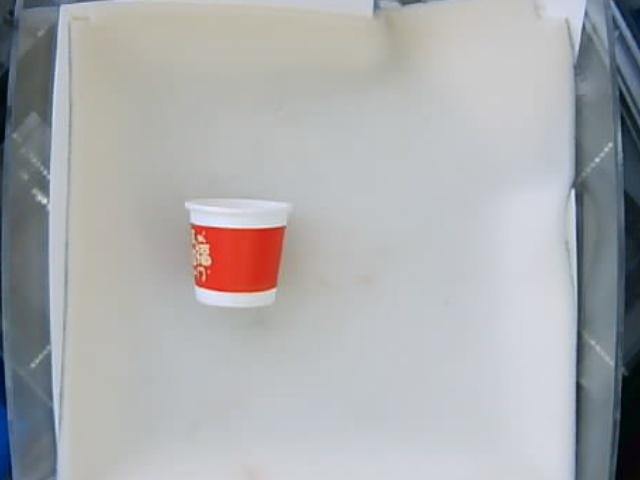Cup: (186, 196, 287, 306)
